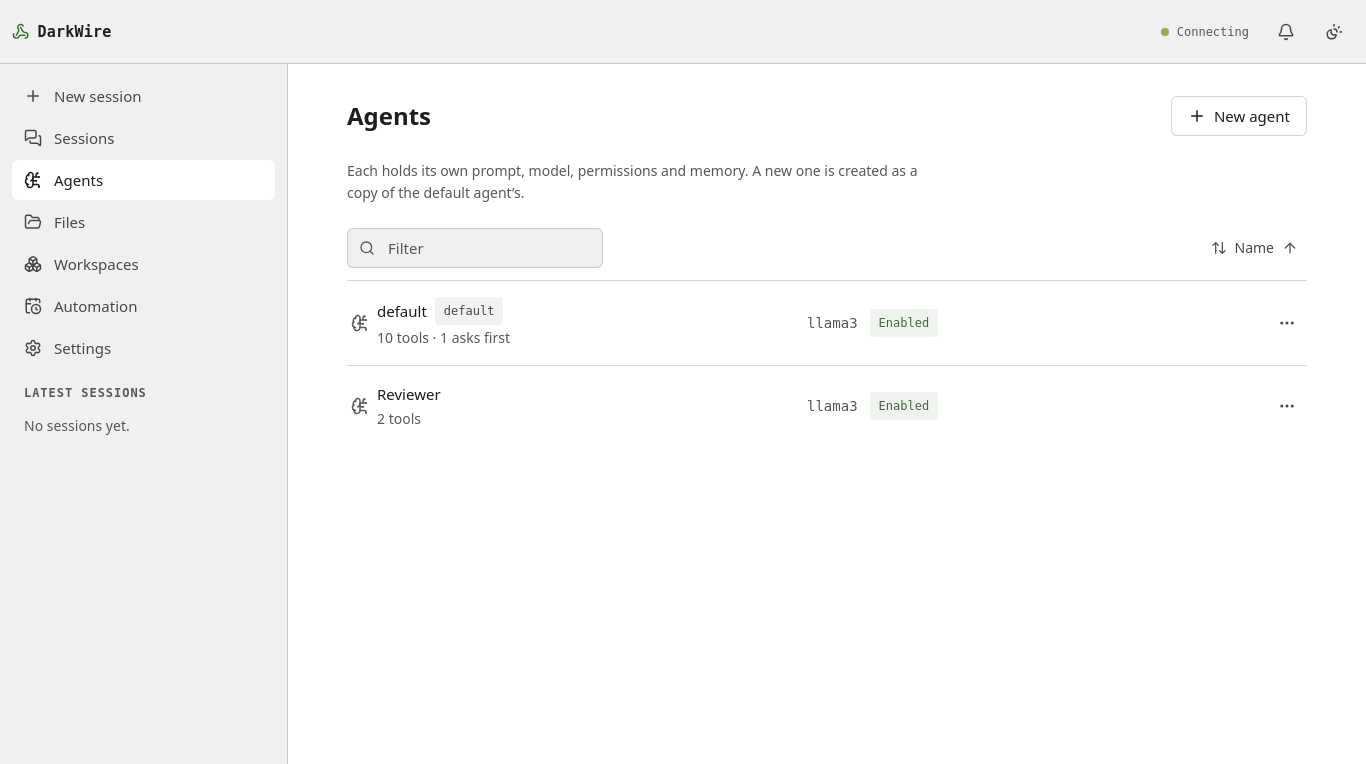
Test: the agents index › opens the copy of the default in its editor, not on a stale link
The image size is (1366, 764).
Click the button named "Actions for default".
click(1287, 323)  # box [1267,303,1307,343]
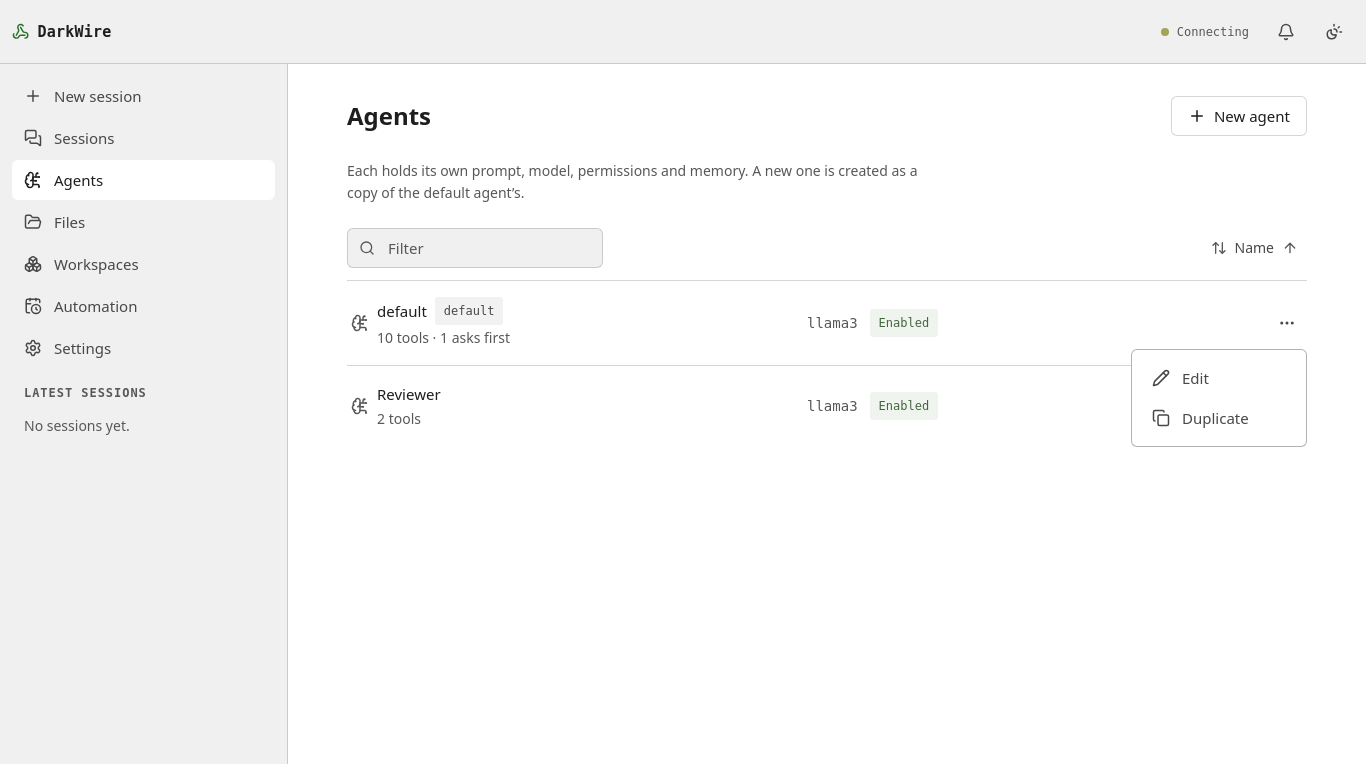
Click the menu item "Duplicate".
click(1200, 418)  # box [1152,408,1249,428]
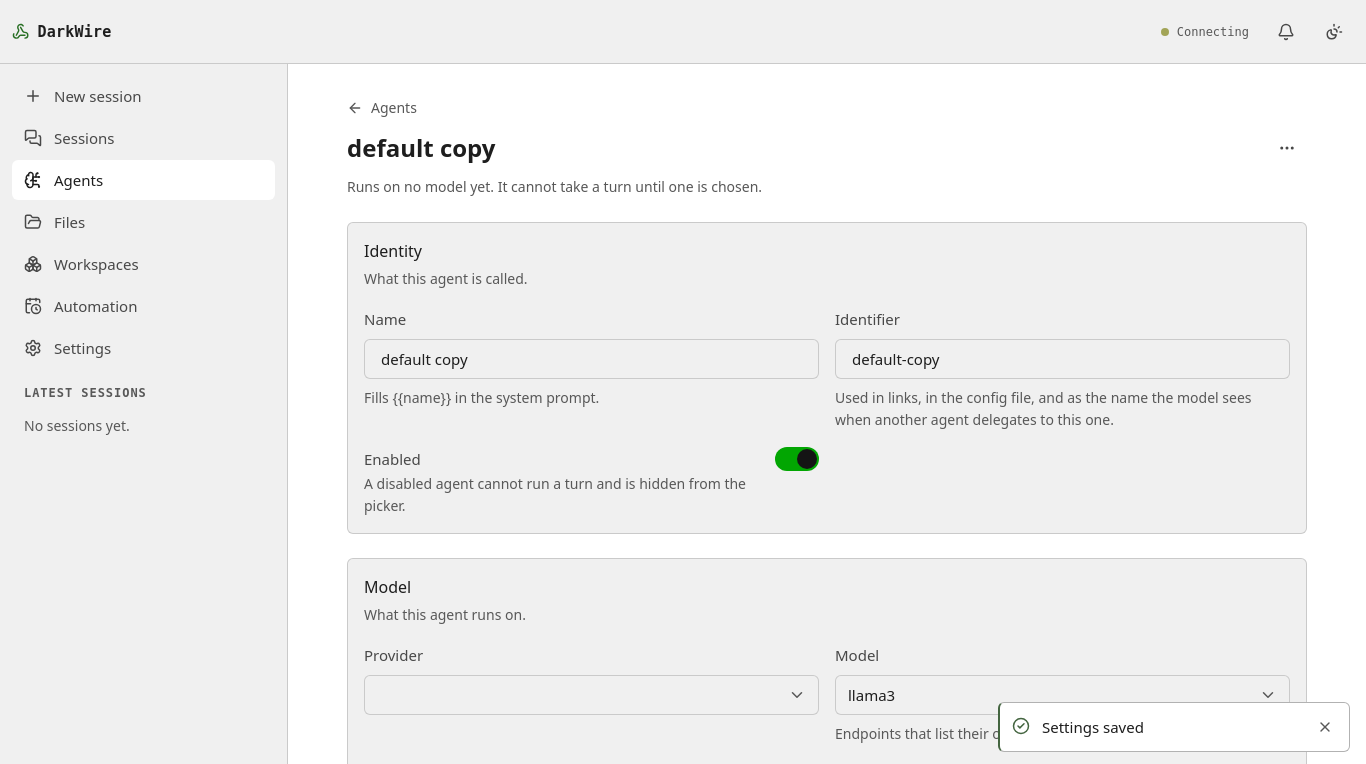
Result: the heading "default copy" is shown at [347,132,496,164]
